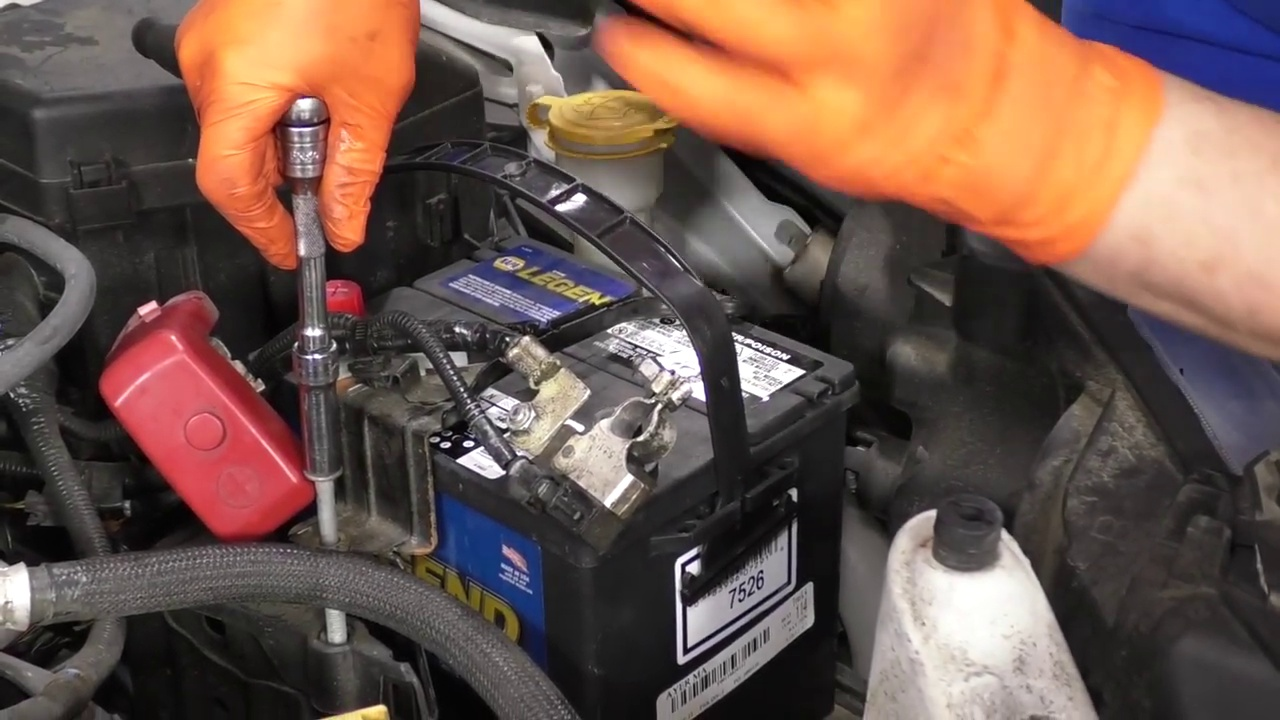battery: (250, 234, 856, 519)
